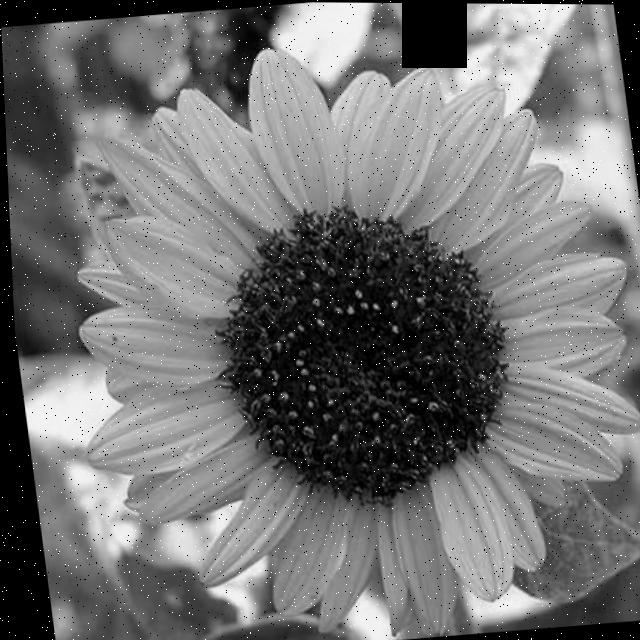sunflower: (13, 0, 640, 640)
